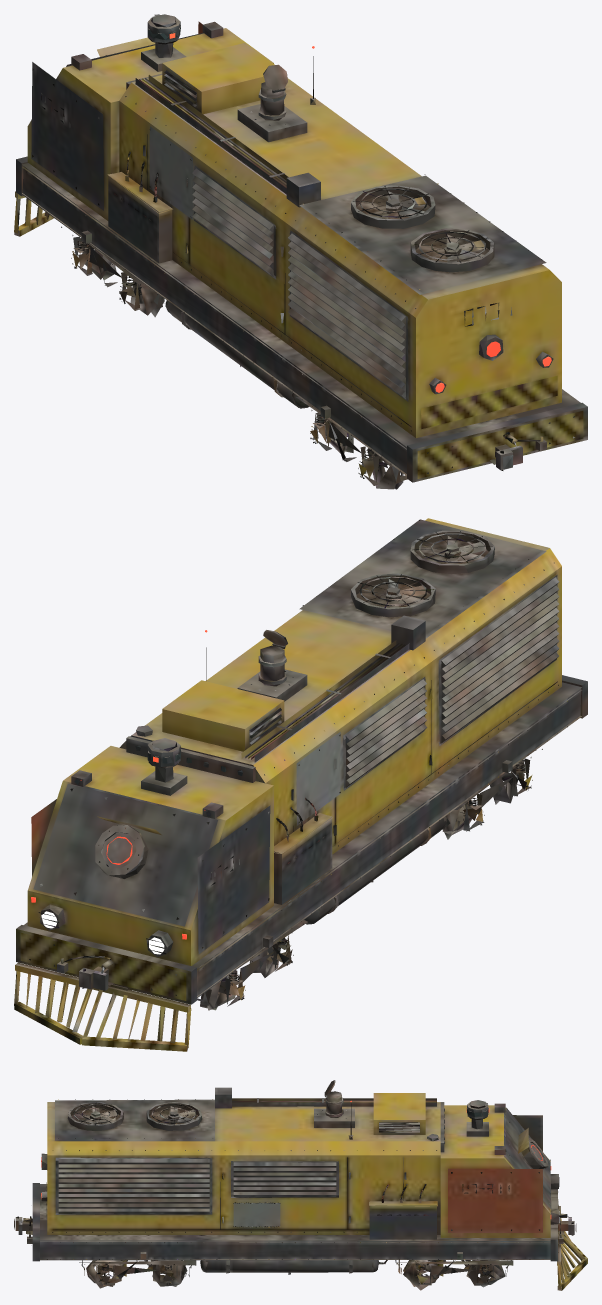
Rendered from locomotiva.glb.
3 renders of one model, top to bottom at view 1: azimuth 30°, elevation 25°; view 2: azimuth 150°, elevation 25°; view 3: azimuth 270°, elevation 25°, orthographic. The views are drawn at different scales.
Parts seen in each view (by area): view 1: locomotiva_corpo, locomotiva_truque1, locomotiva_truque0; view 2: locomotiva_corpo, locomotiva_truque1, locomotiva_truque0; view 3: locomotiva_corpo, locomotiva_truque1, locomotiva_truque0.
Boxes of the visible parts, x1,y1,x2,y2 form: locomotiva_corpo: (14,14,587,482); locomotiva_truque1: (61,226,164,317); locomotiva_truque0: (296,397,407,489); locomotiva_corpo: (14,518,587,1051); locomotiva_truque1: (197,920,307,1010); locomotiva_truque0: (442,749,542,839); locomotiva_corpo: (14,1080,587,1290); locomotiva_truque1: (395,1260,513,1290); locomotiva_truque0: (79,1260,196,1288).
Bounding box in the file's own units: 0.77 × 1.11 × 3.08.
Materials: 7 (1 with a texture image).
